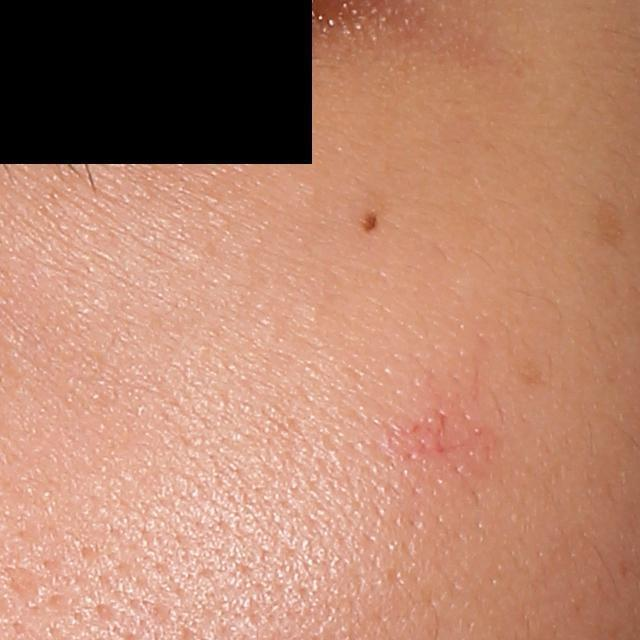melasma: (592, 195, 629, 254)
nevus: (360, 209, 376, 232)
